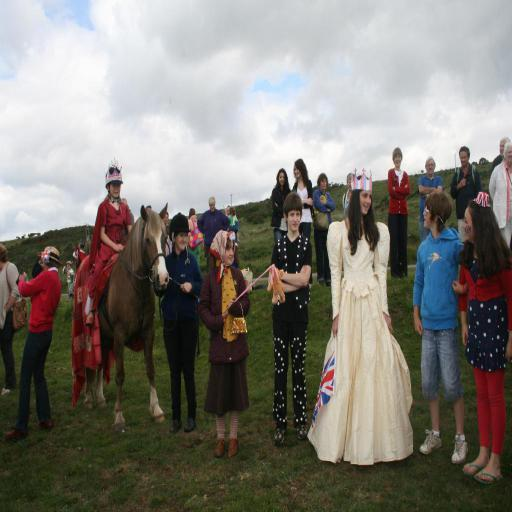horse: (71, 200, 169, 434)
